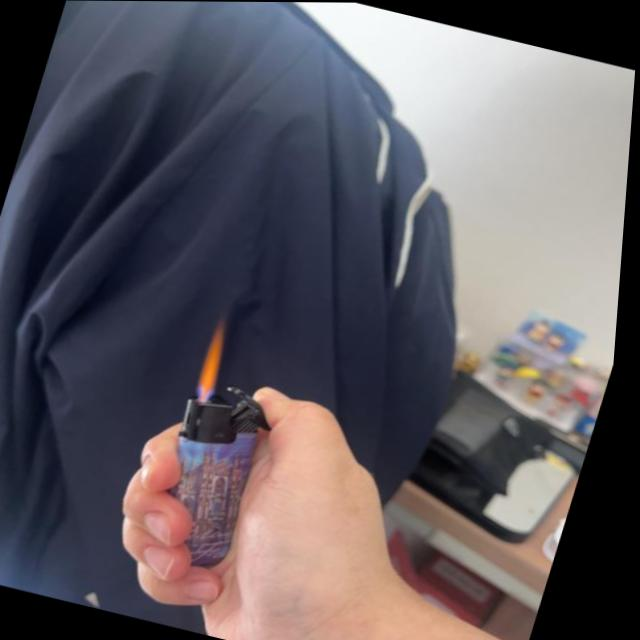Fire: (196, 321, 240, 400)
